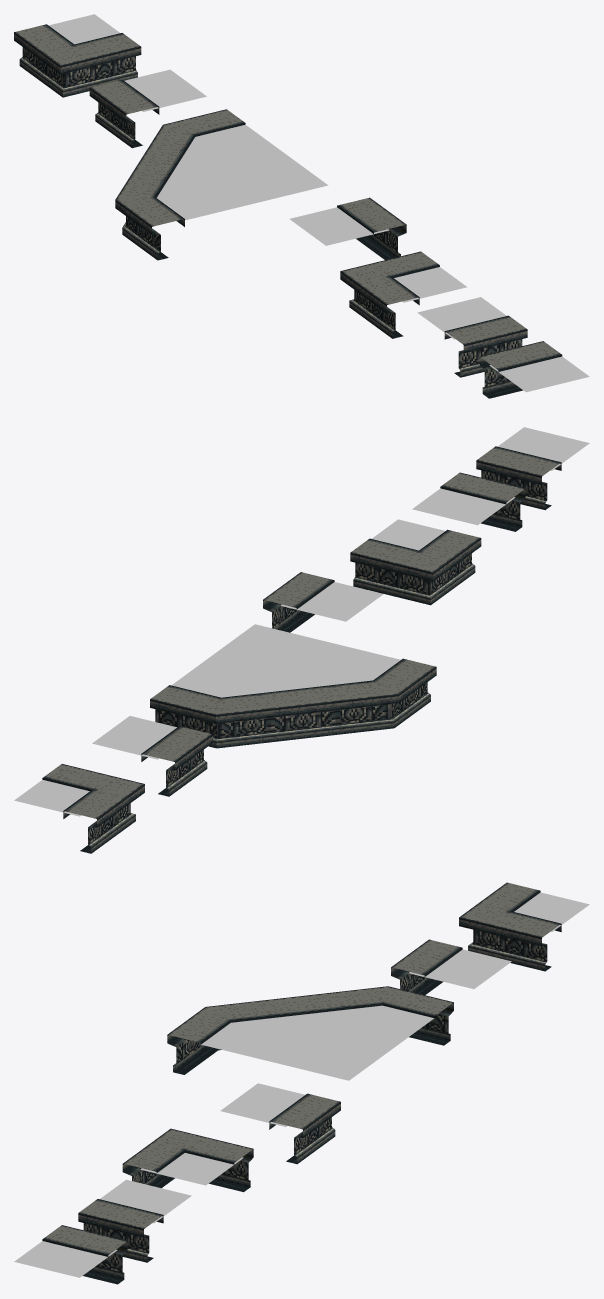
File: EnvMdrMD_Daiseidou_A_GrdWall_A_BK.FBX
The picture shows the model from 3 angles, top to bottom: view 1: azimuth 30°, elevation 25°; view 2: azimuth 150°, elevation 25°; view 3: azimuth 330°, elevation 25°; orthographic projection. The views are drawn at different scales.
Parts seen in each view (by area): view 1: EnvMdrMD_Daiseidou_A_GrdWall_A_Slant_A, EnvMdrMD_Daiseidou_A_GrdWall_A_CoOut_RF, EnvMdrMD_Daiseidou_A_GrdWall_A_CoOut_LF, EnvMdrMD_Daiseidou_A_GrdWall_A_RS, EnvMdrMD_Daiseidou_A_GrdWall_A_FR, EnvMdrMD_Daiseidou_A_GrdWall_A_BK, EnvMdrMD_Daiseidou_A_GrdWall_A_LS; view 2: EnvMdrMD_Daiseidou_A_GrdWall_A_Slant_A, EnvMdrMD_Daiseidou_A_GrdWall_A_CoOut_LF, EnvMdrMD_Daiseidou_A_GrdWall_A_CoOut_RF, EnvMdrMD_Daiseidou_A_GrdWall_A_LS, EnvMdrMD_Daiseidou_A_GrdWall_A_FR, EnvMdrMD_Daiseidou_A_GrdWall_A_RS, EnvMdrMD_Daiseidou_A_GrdWall_A_BK; view 3: EnvMdrMD_Daiseidou_A_GrdWall_A_Slant_A, EnvMdrMD_Daiseidou_A_GrdWall_A_CoOut_RF, EnvMdrMD_Daiseidou_A_GrdWall_A_CoOut_LF, EnvMdrMD_Daiseidou_A_GrdWall_A_RS, EnvMdrMD_Daiseidou_A_GrdWall_A_BK, EnvMdrMD_Daiseidou_A_GrdWall_A_LS, EnvMdrMD_Daiseidou_A_GrdWall_A_FR.
Part boxes in pixels (box(x1,y1,x2,y2)): EnvMdrMD_Daiseidou_A_GrdWall_A_Slant_A: box(115, 109, 328, 260); EnvMdrMD_Daiseidou_A_GrdWall_A_CoOut_RF: box(14, 14, 141, 97); EnvMdrMD_Daiseidou_A_GrdWall_A_CoOut_LF: box(340, 251, 467, 338); EnvMdrMD_Daiseidou_A_GrdWall_A_RS: box(417, 297, 527, 377); EnvMdrMD_Daiseidou_A_GrdWall_A_FR: box(89, 69, 206, 148); EnvMdrMD_Daiseidou_A_GrdWall_A_BK: box(289, 197, 406, 259); EnvMdrMD_Daiseidou_A_GrdWall_A_LS: box(479, 341, 589, 398); EnvMdrMD_Daiseidou_A_GrdWall_A_Slant_A: box(150, 624, 436, 748); EnvMdrMD_Daiseidou_A_GrdWall_A_CoOut_LF: box(350, 519, 481, 605); EnvMdrMD_Daiseidou_A_GrdWall_A_CoOut_RF: box(14, 764, 144, 853); EnvMdrMD_Daiseidou_A_GrdWall_A_LS: box(476, 427, 589, 510); EnvMdrMD_Daiseidou_A_GrdWall_A_FR: box(92, 716, 212, 796); EnvMdrMD_Daiseidou_A_GrdWall_A_RS: box(412, 472, 525, 531); EnvMdrMD_Daiseidou_A_GrdWall_A_BK: box(263, 572, 383, 632); EnvMdrMD_Daiseidou_A_GrdWall_A_Slant_A: box(167, 986, 453, 1080); EnvMdrMD_Daiseidou_A_GrdWall_A_CoOut_RF: box(459, 882, 589, 971); EnvMdrMD_Daiseidou_A_GrdWall_A_CoOut_LF: box(122, 1128, 253, 1192); EnvMdrMD_Daiseidou_A_GrdWall_A_RS: box(78, 1179, 191, 1262); EnvMdrMD_Daiseidou_A_GrdWall_A_BK: box(220, 1083, 340, 1164); EnvMdrMD_Daiseidou_A_GrdWall_A_LS: box(14, 1225, 127, 1284); EnvMdrMD_Daiseidou_A_GrdWall_A_FR: box(391, 939, 511, 994).
Size of the model in its own units: 605 by 105 by 2686.
